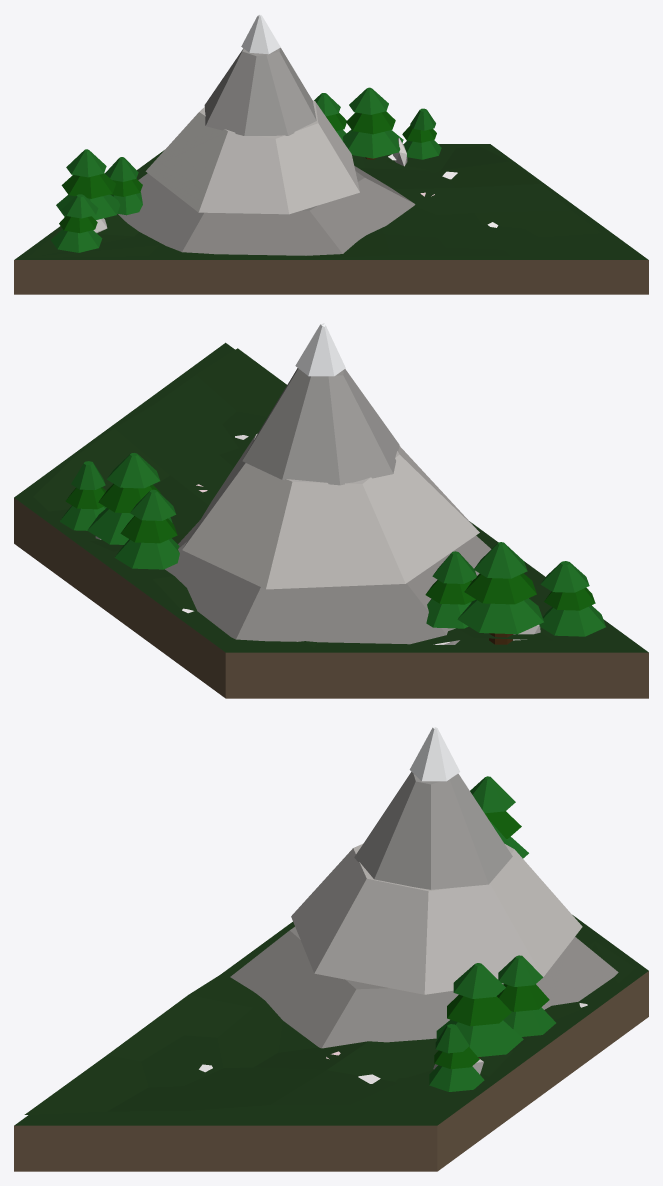
The model's file is mountain_half_sprint2.glb.
3 views of the same model, one above another, from view 1: azimuth 30°, elevation 25°; view 2: azimuth 150°, elevation 25°; view 3: azimuth 270°, elevation 25° (orthographic). The views are drawn at different scales.
Visible parts, largest first — view 1: DiagonalSplitBase, Terrain, Fuji_1, Fuji_0, Fuji_2, PineCone_20_0, PineCone_10_1, Fuji_3, PineCone_30_0, PineCone_20_1, PineCone_10_2, PineCone_20_2 (+8 smaller); view 2: DiagonalSplitBase, Fuji_1, Terrain, Fuji_0, Fuji_2, PineCone_10_0, PineCone_10_1, Fuji_3, PineCone_21_0, PineCone_30_0, PineCone_10_2, PineCone_20_2 (+12 smaller); view 3: DiagonalSplitBase, Terrain, Fuji_1, Fuji_0, Fuji_2, PineCone_20_0, Fuji_3, PineCone_20_1, PineCone_20_2, PineCone_31_0, PineCone_21_1, PineCone_10_2 (+4 smaller).
Part boxes in pixels (x1=…): DiagonalSplitBase: x1=14, y1=144, x2=648, y2=294; Terrain: x1=28, y1=146, x2=631, y2=258; Fuji_1: x1=145, y1=100, x2=359, y2=214; Fuji_0: x1=118, y1=166, x2=415, y2=255; Fuji_2: x1=204, y1=47, x2=316, y2=135; PineCone_20_0: x1=343, y1=129, x2=403, y2=158; PineCone_10_1: x1=61, y1=173, x2=115, y2=198; Fuji_3: x1=241, y1=14, x2=280, y2=54; PineCone_30_0: x1=51, y1=229, x2=102, y2=252; PineCone_20_1: x1=346, y1=111, x2=395, y2=134; PineCone_10_2: x1=66, y1=149, x2=106, y2=177; PineCone_20_2: x1=349, y1=87, x2=388, y2=114; DiagonalSplitBase: x1=14, y1=342, x2=648, y2=698; Fuji_1: x1=182, y1=433, x2=479, y2=589; Terrain: x1=33, y1=348, x2=632, y2=647; Fuji_0: x1=165, y1=520, x2=491, y2=644; Fuji_2: x1=242, y1=368, x2=399, y2=485; PineCone_10_0: x1=457, y1=598, x2=543, y2=634; PineCone_10_1: x1=464, y1=573, x2=536, y2=604; Fuji_3: x1=295, y1=323, x2=345, y2=376; PineCone_21_0: x1=114, y1=538, x2=179, y2=569; PineCone_30_0: x1=539, y1=605, x2=605, y2=636; PineCone_10_2: x1=474, y1=542, x2=527, y2=578; PineCone_20_2: x1=107, y1=453, x2=160, y2=488; DiagonalSplitBase: x1=14, y1=915, x2=648, y2=1171; Terrain: x1=24, y1=941, x2=634, y2=1114; Fuji_1: x1=291, y1=843, x2=582, y2=994; Fuji_0: x1=230, y1=927, x2=618, y2=1048; Fuji_2: x1=354, y1=772, x2=512, y2=889; PineCone_20_0: x1=436, y1=1019, x2=523, y2=1056; Fuji_3: x1=409, y1=727, x2=459, y2=781; PineCone_20_1: x1=447, y1=994, x2=511, y2=1026; PineCone_20_2: x1=453, y1=963, x2=505, y2=998; PineCone_31_0: x1=429, y1=1065, x2=484, y2=1091; PineCone_21_1: x1=497, y1=984, x2=549, y2=1011; PineCone_10_2: x1=470, y1=776, x2=515, y2=813.
Bounding box in the file's own units: 4.33 × 1.91 × 3.75.
